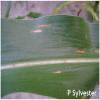Corn Gray leaf spot: (3, 14, 99, 88)
